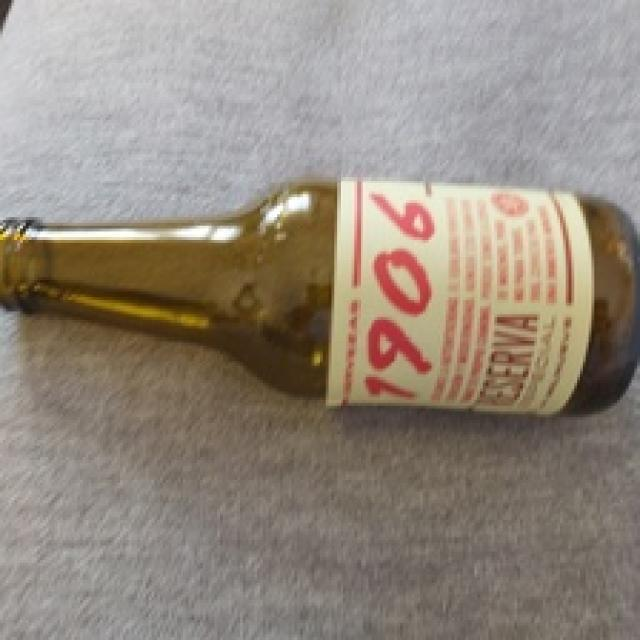Glass: (0, 173, 640, 420)
